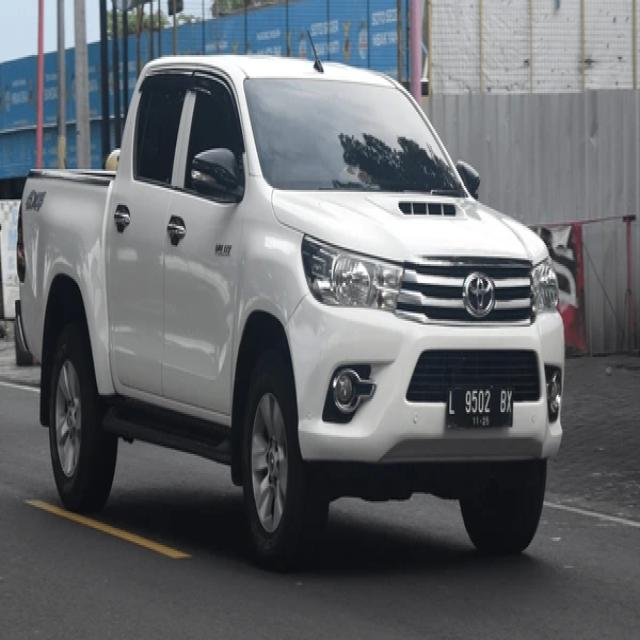toyota: (461, 273, 498, 315)
